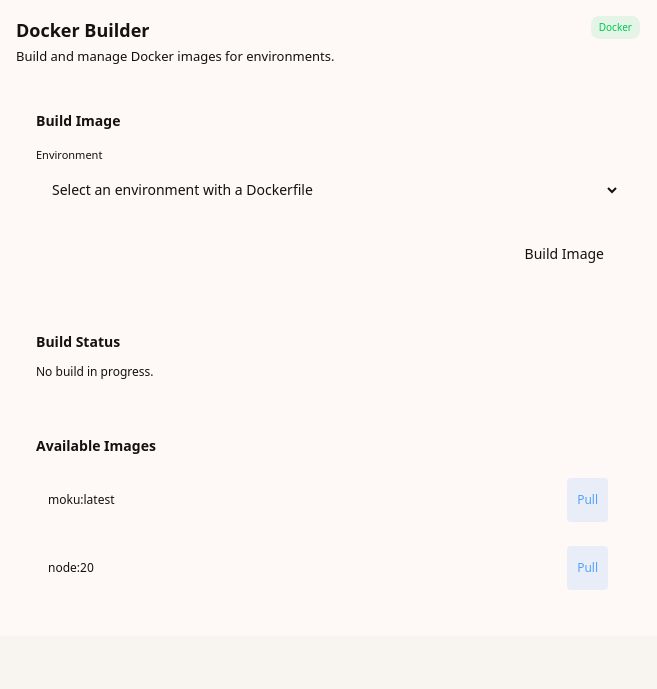
Test: DockerBuilderPage build card › shows read-only env details when environment is selected
expect the heading "Docker Builder" is shown: met, box [16,18,150,42]
Select "Production" in the dropdown at (328, 190), box [36,168,620,212]
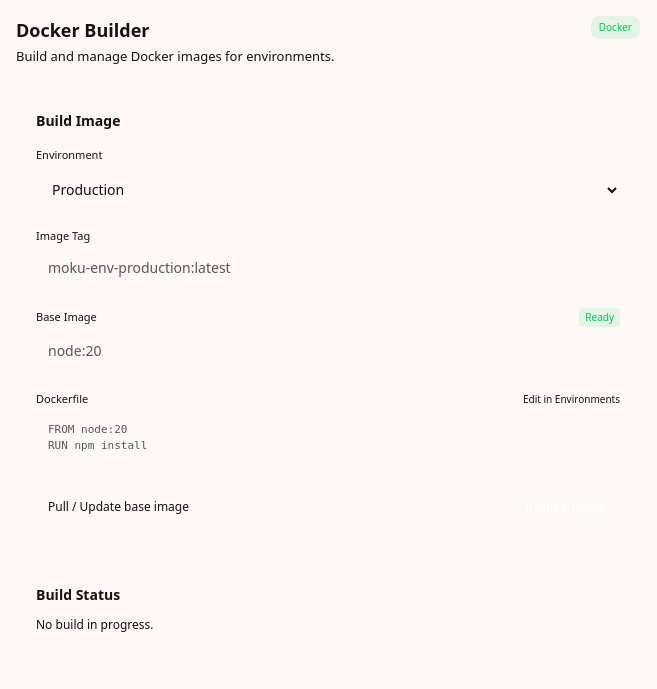
expect the text "moku-env-production:latest" is shown: met, box [48,258,231,277]
expect the text "Image Tag" is shown: met, box [36,228,90,243]
expect the text "Base Image" is shown: met, box [36,309,97,326]
